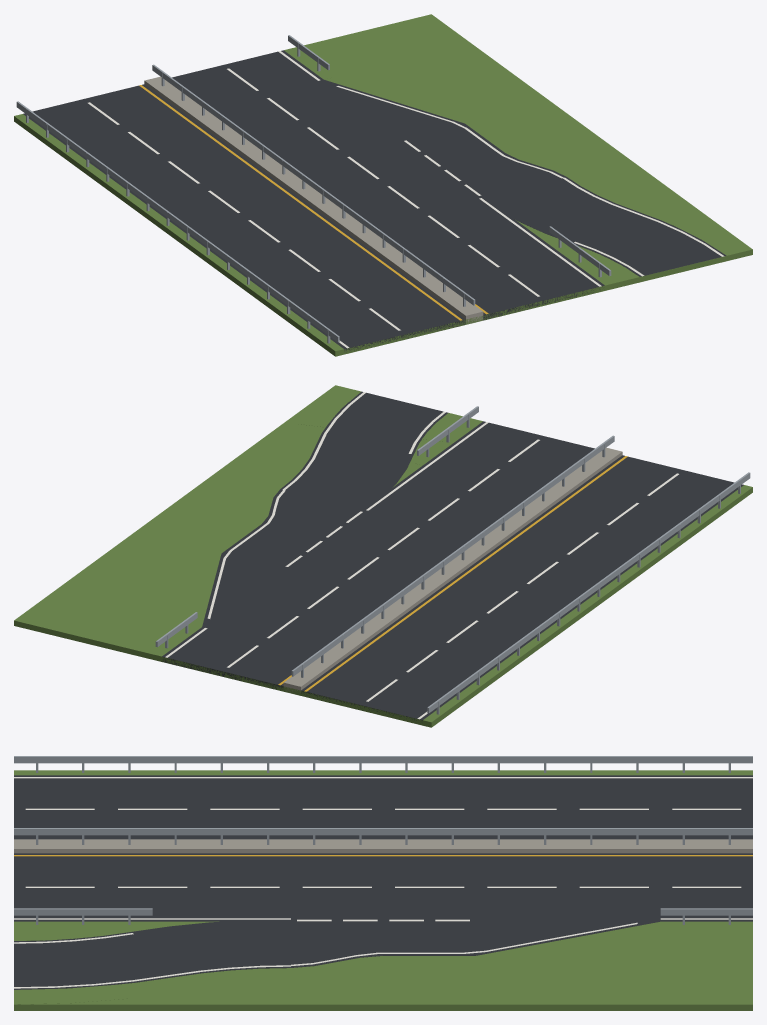
File: Highway_OnRamp_Merge_32m.glb
The picture shows the model from 3 angles, top to bottom: view 1: azimuth 30°, elevation 25°; view 2: azimuth 150°, elevation 25°; view 3: azimuth 270°, elevation 25°; orthographic projection. The views are drawn at different scales.
Parts seen in each view (by area): view 1: Highway_OnRamp_Merge_32m_Asphalt, Highway_OnRamp_Merge_32m_Grass-edge, Highway_OnRamp_Merge_32m_Metal, Highway_OnRamp_Merge_32m_Concrete, Highway_OnRamp_Merge_32m_PaintWhite, Highway_OnRamp_Merge_32m_PaintYellow; view 2: Highway_OnRamp_Merge_32m_Asphalt, Highway_OnRamp_Merge_32m_Grass-edge, Highway_OnRamp_Merge_32m_Metal, Highway_OnRamp_Merge_32m_Concrete, Highway_OnRamp_Merge_32m_PaintWhite, Highway_OnRamp_Merge_32m_PaintYellow; view 3: Highway_OnRamp_Merge_32m_Asphalt, Highway_OnRamp_Merge_32m_Grass-edge, Highway_OnRamp_Merge_32m_Metal, Highway_OnRamp_Merge_32m_Concrete, Highway_OnRamp_Merge_32m_PaintWhite, Highway_OnRamp_Merge_32m_PaintYellow.
Part boxes in pixels (x1,y1,x2,y2): Highway_OnRamp_Merge_32m_Asphalt: (23,50,726,352); Highway_OnRamp_Merge_32m_Grass-edge: (14,14,752,356); Highway_OnRamp_Merge_32m_Metal: (16,35,611,343); Highway_OnRamp_Merge_32m_Concrete: (144,76,483,324); Highway_OnRamp_Merge_32m_PaintWhite: (88,51,724,348); Highway_OnRamp_Merge_32m_PaintYellow: (139,85,488,320); Highway_OnRamp_Merge_32m_Asphalt: (162,391,743,720); Highway_OnRamp_Merge_32m_Grass-edge: (14,385,752,727); Highway_OnRamp_Merge_32m_Metal: (155,406,750,714); Highway_OnRamp_Merge_32m_Concrete: (283,447,622,692); Highway_OnRamp_Merge_32m_PaintWhite: (165,392,678,719); Highway_OnRamp_Merge_32m_PaintYellow: (278,456,627,691); Highway_OnRamp_Merge_32m_Asphalt: (14,775,752,989); Highway_OnRamp_Merge_32m_Grass-edge: (14,770,752,1010); Highway_OnRamp_Merge_32m_Metal: (14,756,752,924); Highway_OnRamp_Merge_32m_Concrete: (14,839,752,853); Highway_OnRamp_Merge_32m_PaintWhite: (14,777,752,988); Highway_OnRamp_Merge_32m_PaintYellow: (14,855,752,856).
Size of the model in its own units: 24 by 1.25 by 32.
